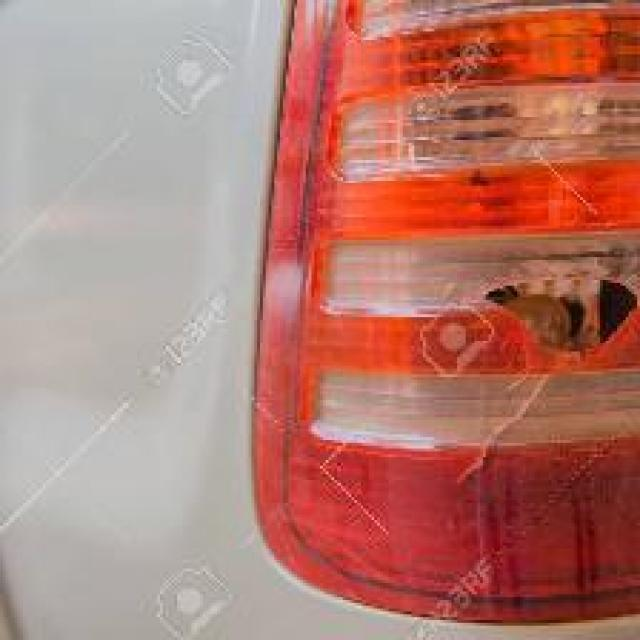damaged: (474, 274, 637, 354)
